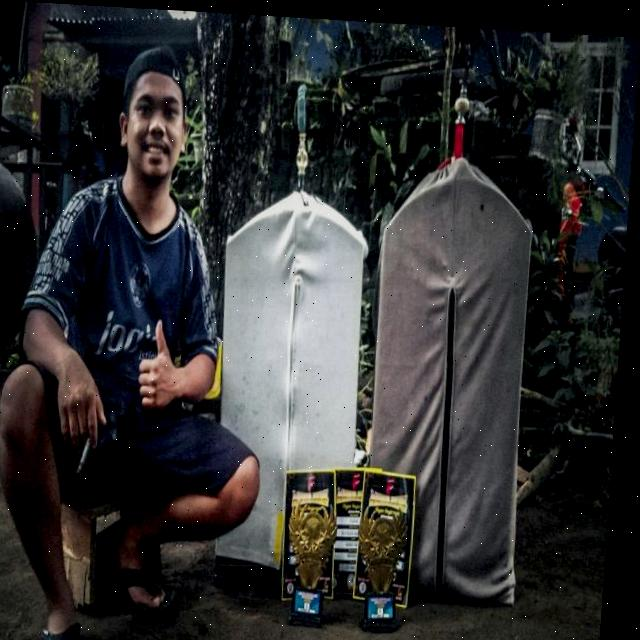cigarette: (82, 434, 99, 472)
